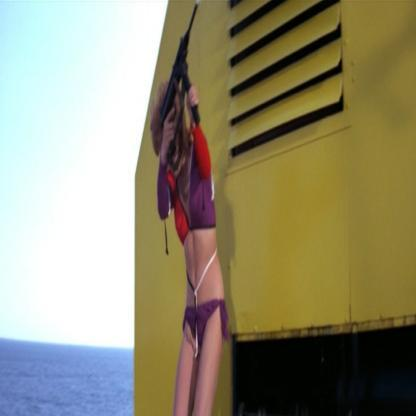gun: (151, 2, 210, 133)
